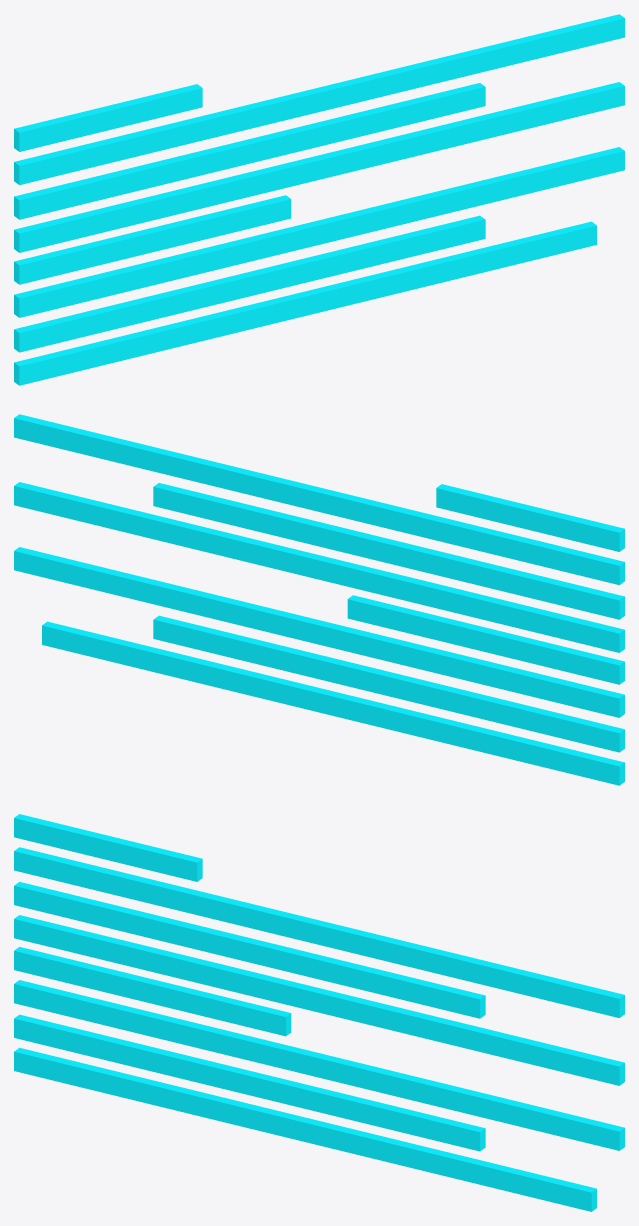
The model's file is SM_Hud_Text_01.glb.
The picture shows the model from 3 angles, top to bottom: view 1: azimuth 30°, elevation 25°; view 2: azimuth 150°, elevation 25°; view 3: azimuth 330°, elevation 25°; orthographic projection.
Visible parts, largest first — view 1: SM_Hud_Text_01; view 2: SM_Hud_Text_01; view 3: SM_Hud_Text_01.
Boxes of the visible parts, x1,y1,x2,y2 form: SM_Hud_Text_01: (14, 14, 624, 385); SM_Hud_Text_01: (14, 414, 624, 785); SM_Hud_Text_01: (14, 814, 624, 1211).
Bounding box in the file's own units: 0.413 × 0.1649 × 0.00647.
